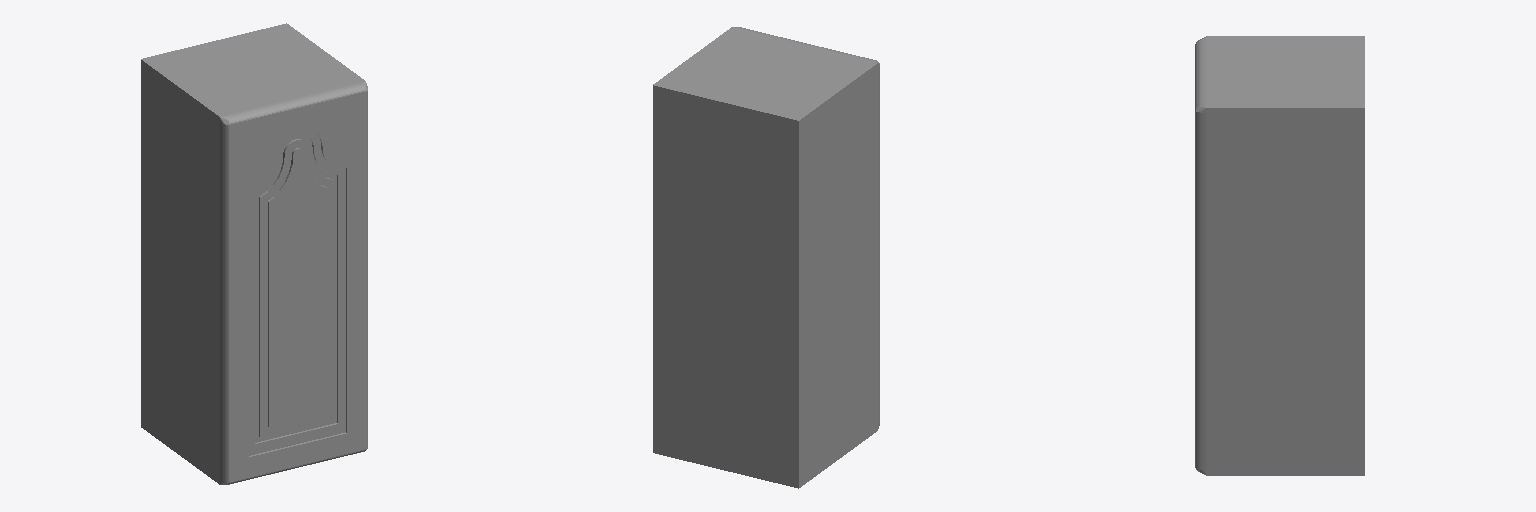
Rendered from single-wall-unit-300.obj.
3 renders of one model, left to right at view 1: azimuth 30°, elevation 25°; view 2: azimuth 150°, elevation 25°; view 3: azimuth 270°, elevation 25°, orthographic.
Parts seen in each view (by area): view 1: Cube.003_Cube.008, Cube.002_Cube.004, Cube_Cube.002, Cube.001_Cube.003; view 2: Cube_Cube.002, Cube.002_Cube.004, Cube.001_Cube.003, Cube.003_Cube.008; view 3: Cube.001_Cube.003, Cube_Cube.002, Cube.003_Cube.008, Cube.002_Cube.004.
Part boxes in pixels (left/top/right/bottom): Cube.003_Cube.008: left=219, top=81, right=367, bottom=484; Cube.002_Cube.004: left=141, top=57, right=225, bottom=483; Cube_Cube.002: left=148, top=25, right=357, bottom=114; Cube.001_Cube.003: left=280, top=23, right=364, bottom=82; Cube_Cube.002: left=660, top=29, right=869, bottom=486; Cube.002_Cube.004: left=792, top=61, right=877, bottom=488; Cube.001_Cube.003: left=653, top=27, right=737, bottom=454; Cube.003_Cube.008: left=732, top=27, right=879, bottom=428; Cube.001_Cube.003: left=1207, top=104, right=1364, bottom=475; Cube_Cube.002: left=1207, top=40, right=1364, bottom=103; Cube.003_Cube.008: left=1195, top=36, right=1206, bottom=475; Cube.002_Cube.004: left=1207, top=36, right=1364, bottom=39.
Size of the model in its own units: 60 by 144 by 60.